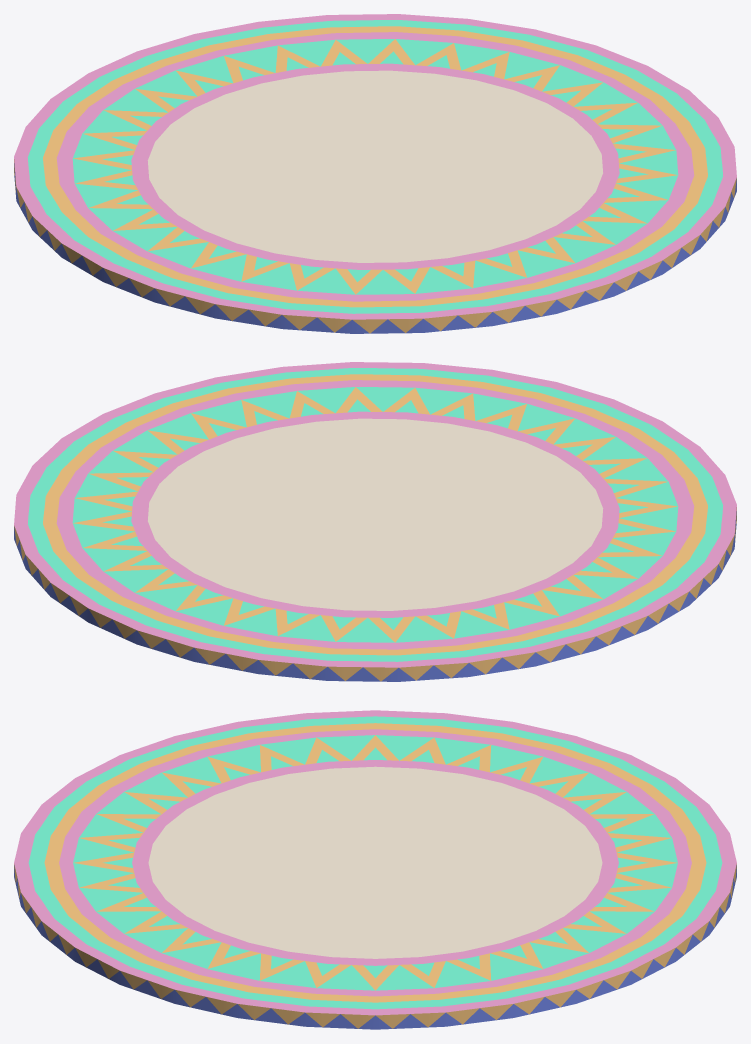
The model's file is Stage_01.FBX.
3 views of the same model, one above another, from view 1: azimuth 30°, elevation 25°; view 2: azimuth 150°, elevation 25°; view 3: azimuth 270°, elevation 25° (orthographic).
Parts seen in each view (by area): view 1: Stage_01; view 2: Stage_01; view 3: Stage_01.
Boxes of the visible parts, box(x1,y1,x2,y2) form: Stage_01: box(14, 14, 736, 333); Stage_01: box(14, 362, 736, 681); Stage_01: box(14, 710, 736, 1029).
Size of the model in its own units: 22.95 by 0.5 by 22.98.
